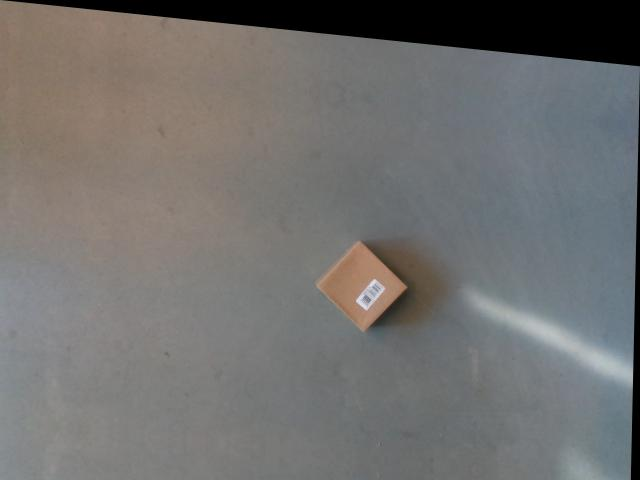label: (355, 278, 385, 312)
package: (315, 239, 409, 334)
